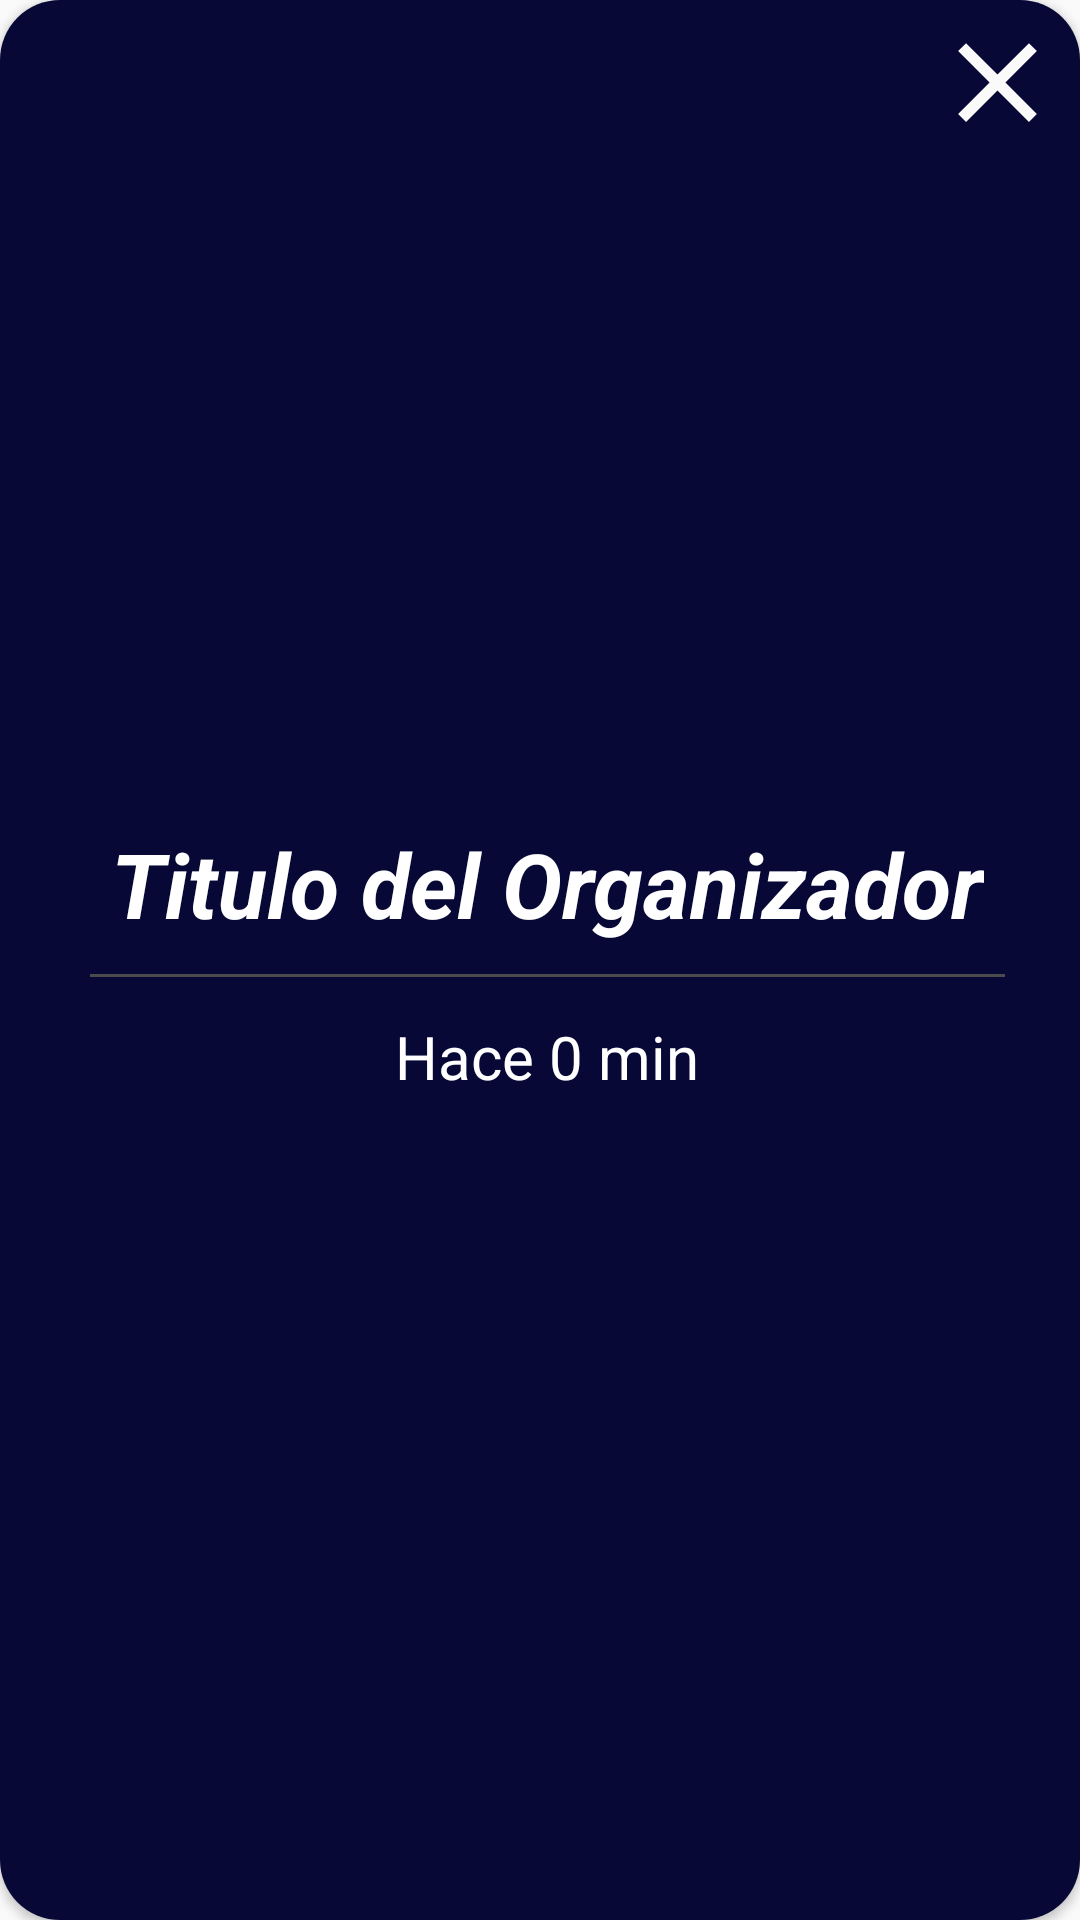

Screen size 1080 x 1920. Icon name, then its box in pixels as (x1, y1, x2, y2):
close: (958, 43, 1037, 122)
